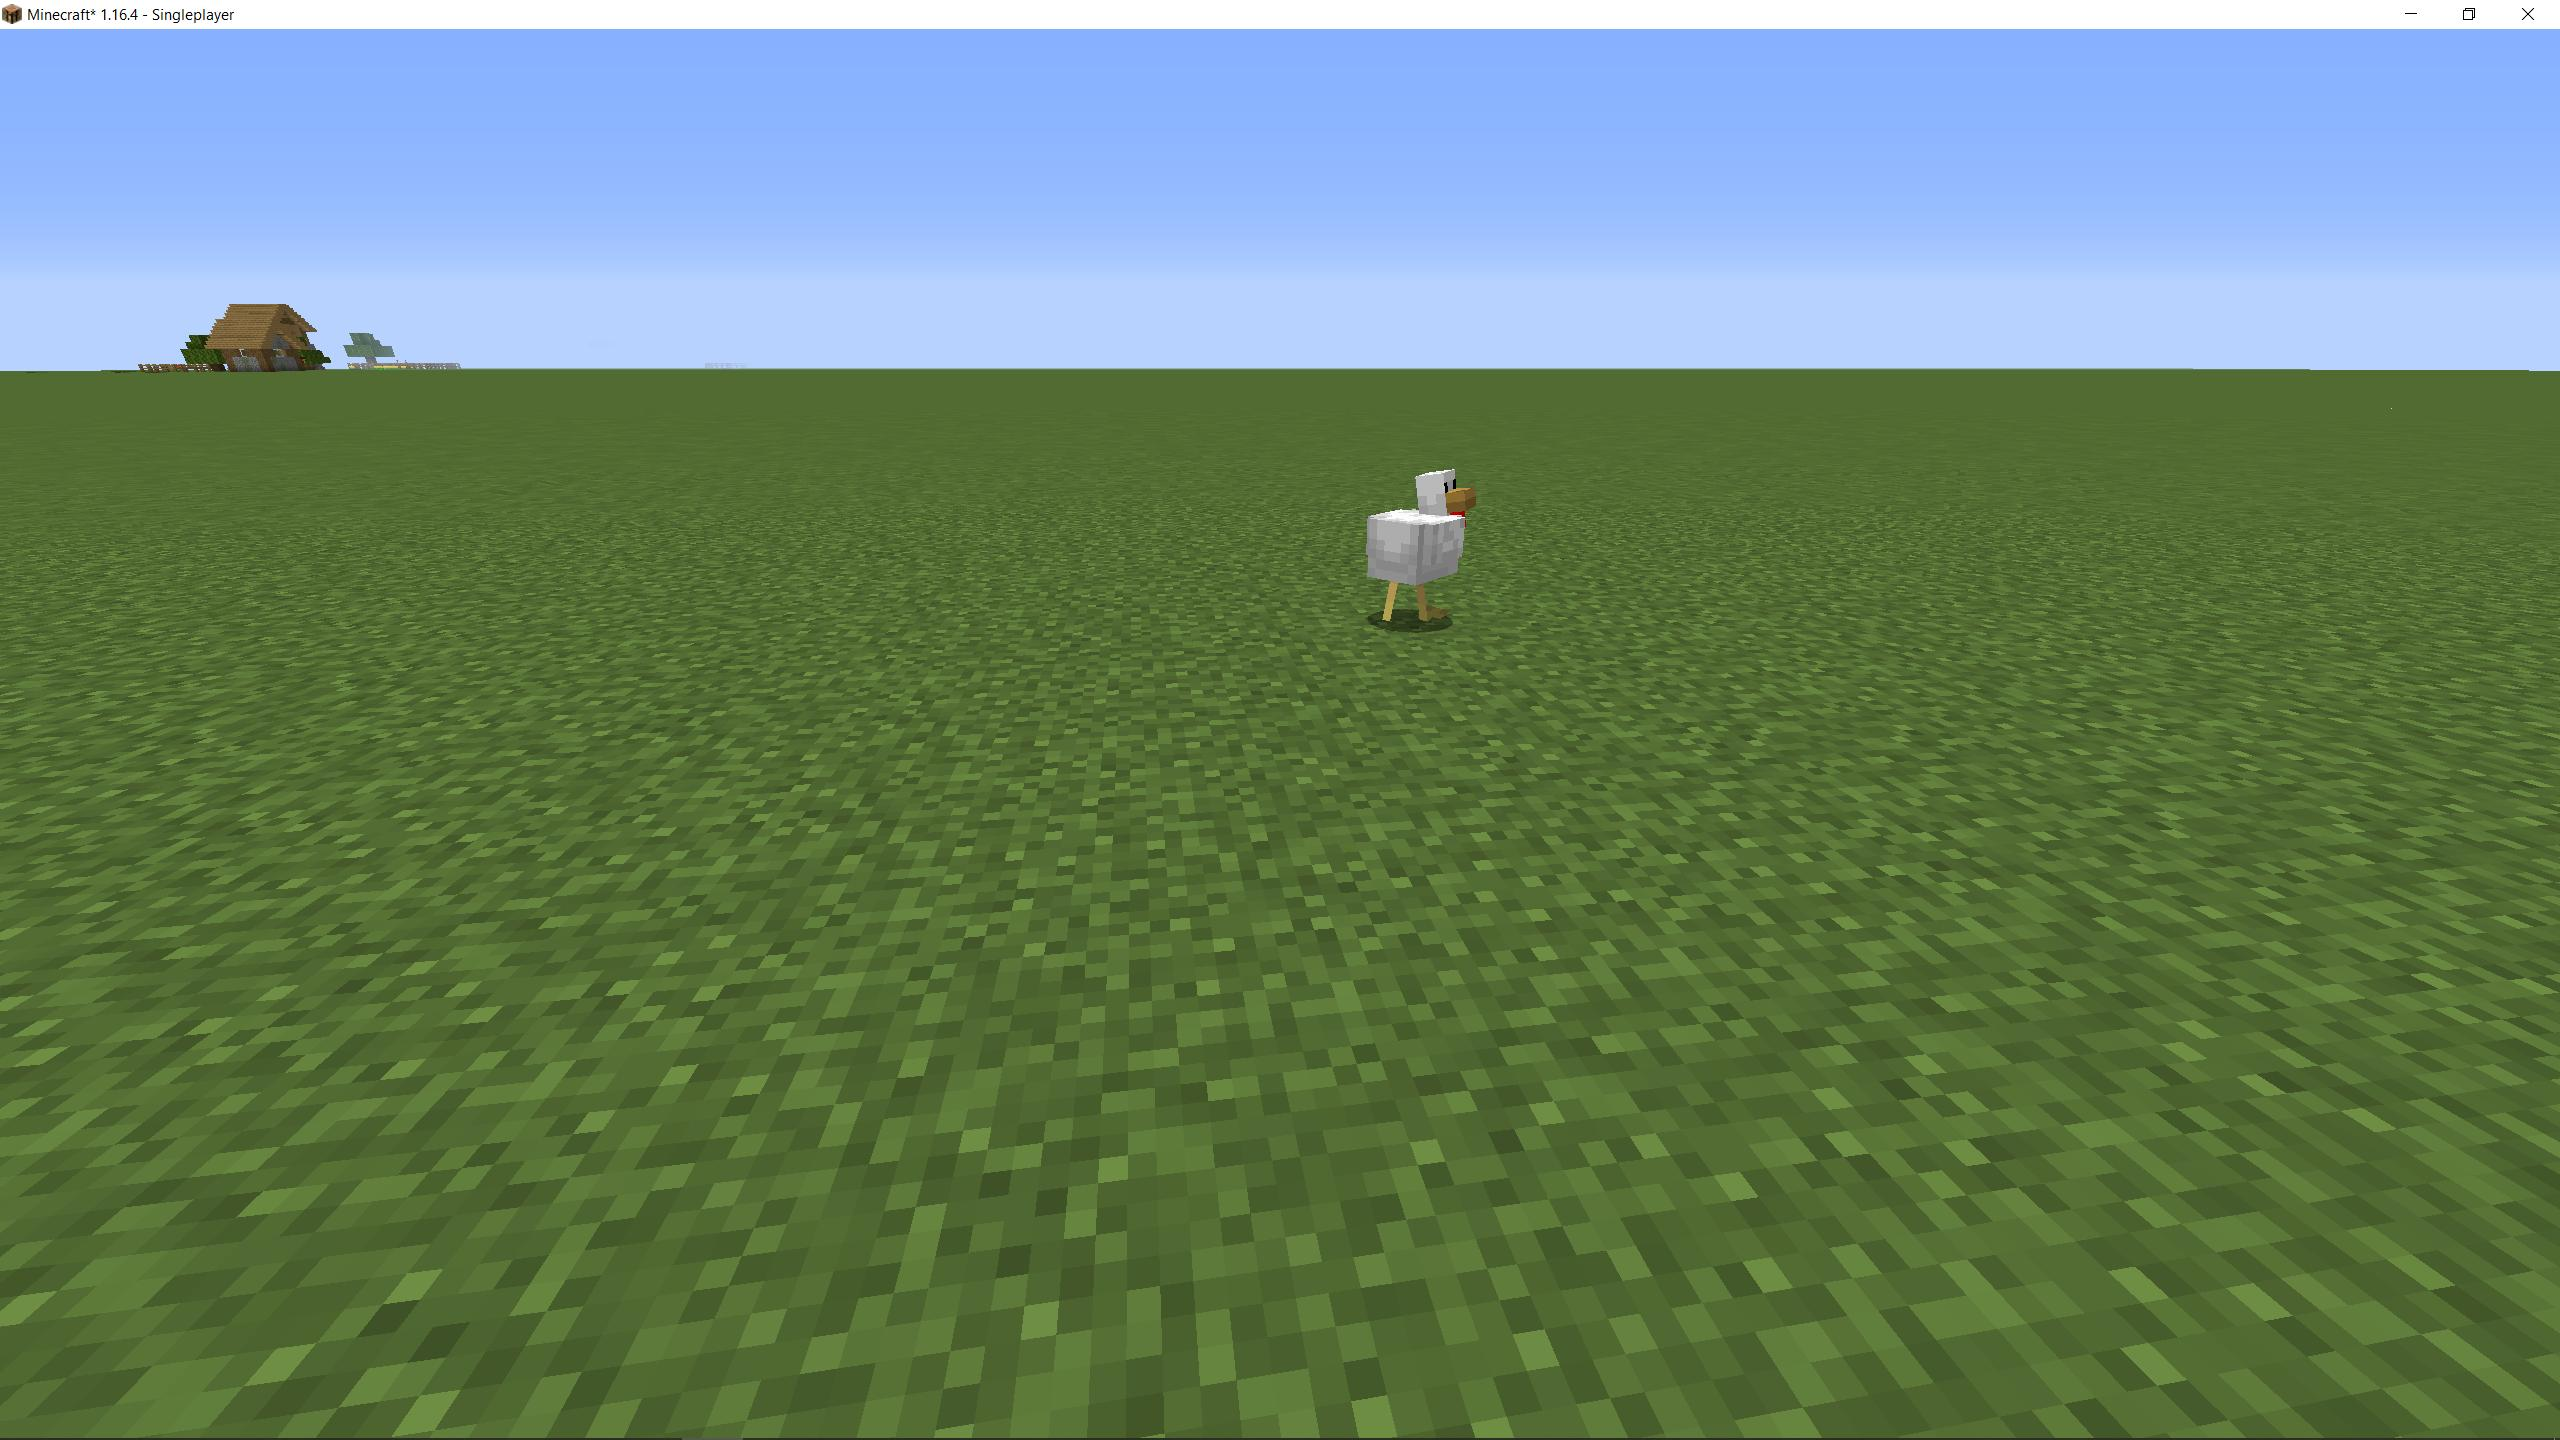chicken: (1361, 459, 1479, 636)
